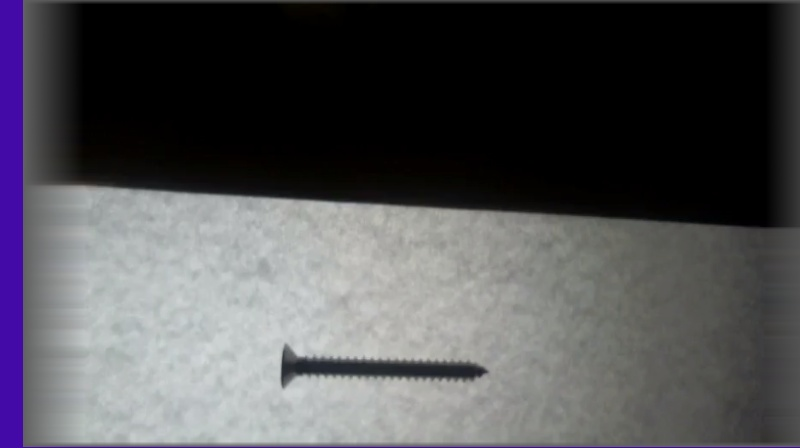S002: (277, 340, 492, 395)
